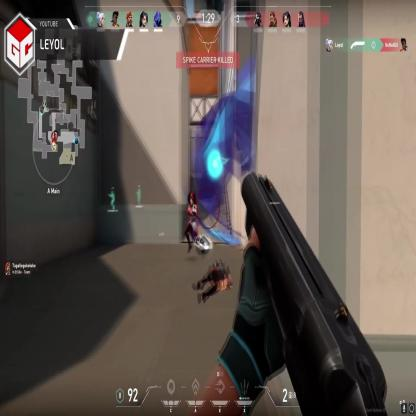enemy: (184, 193, 200, 253)
enemy_head: (190, 196, 194, 206)
